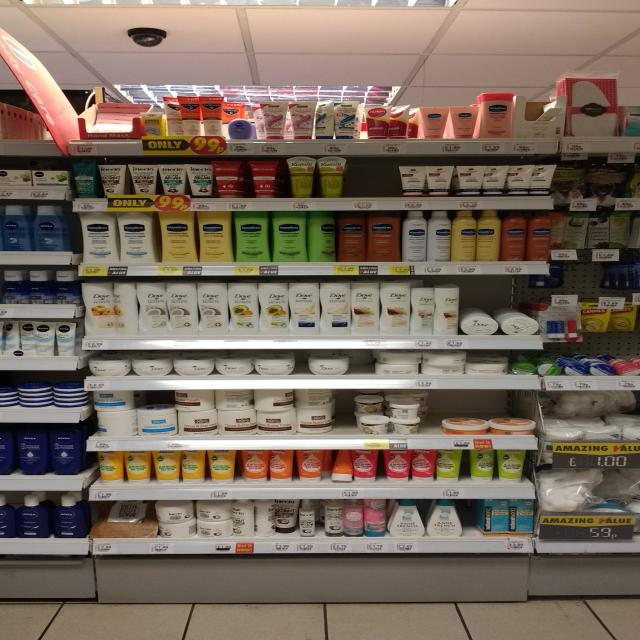empty: (344, 156, 403, 194), (327, 386, 362, 427)
